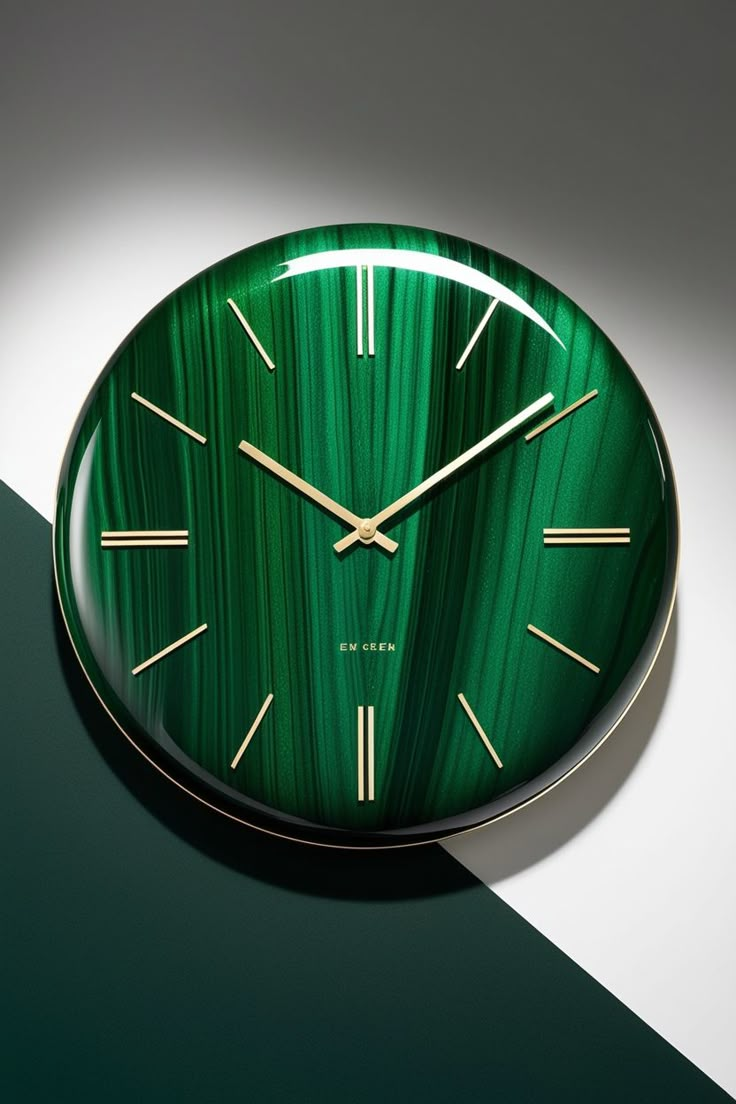clock: (36, 188, 709, 891)
